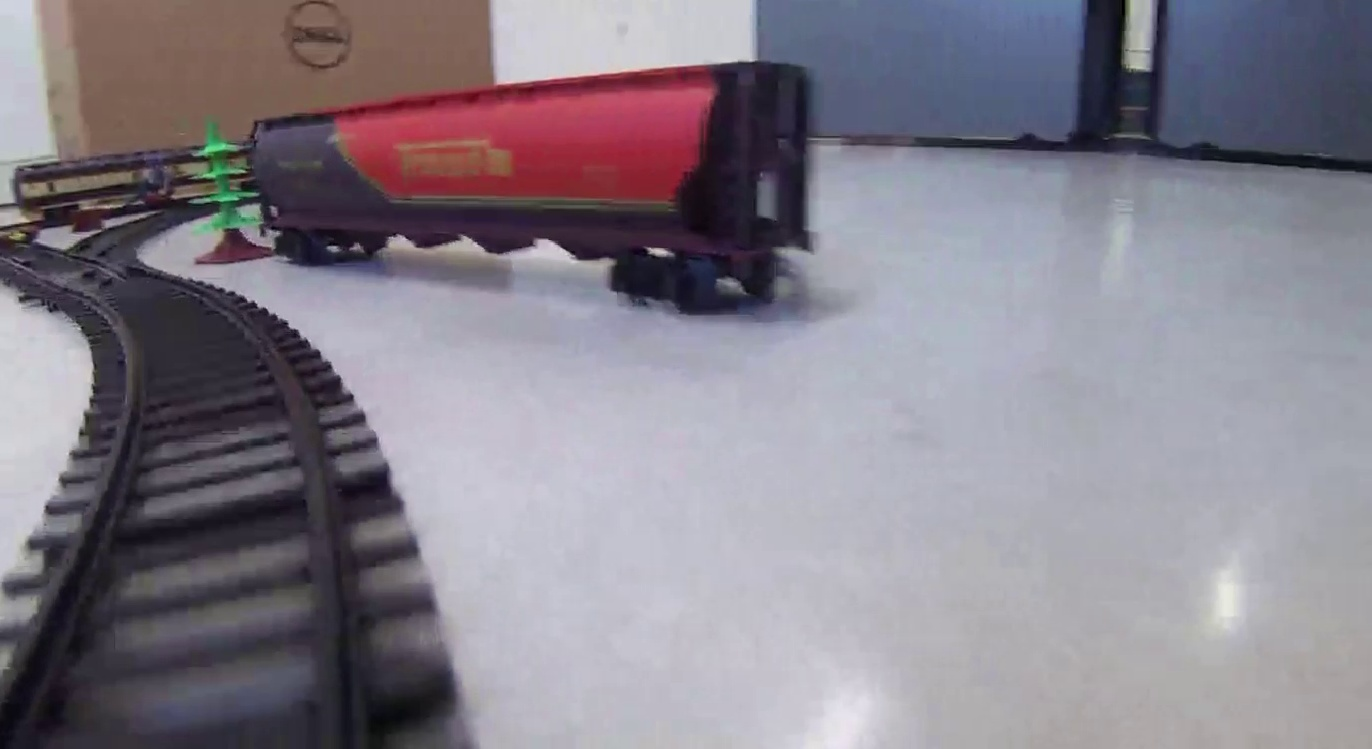tree: (185, 125, 273, 268)
